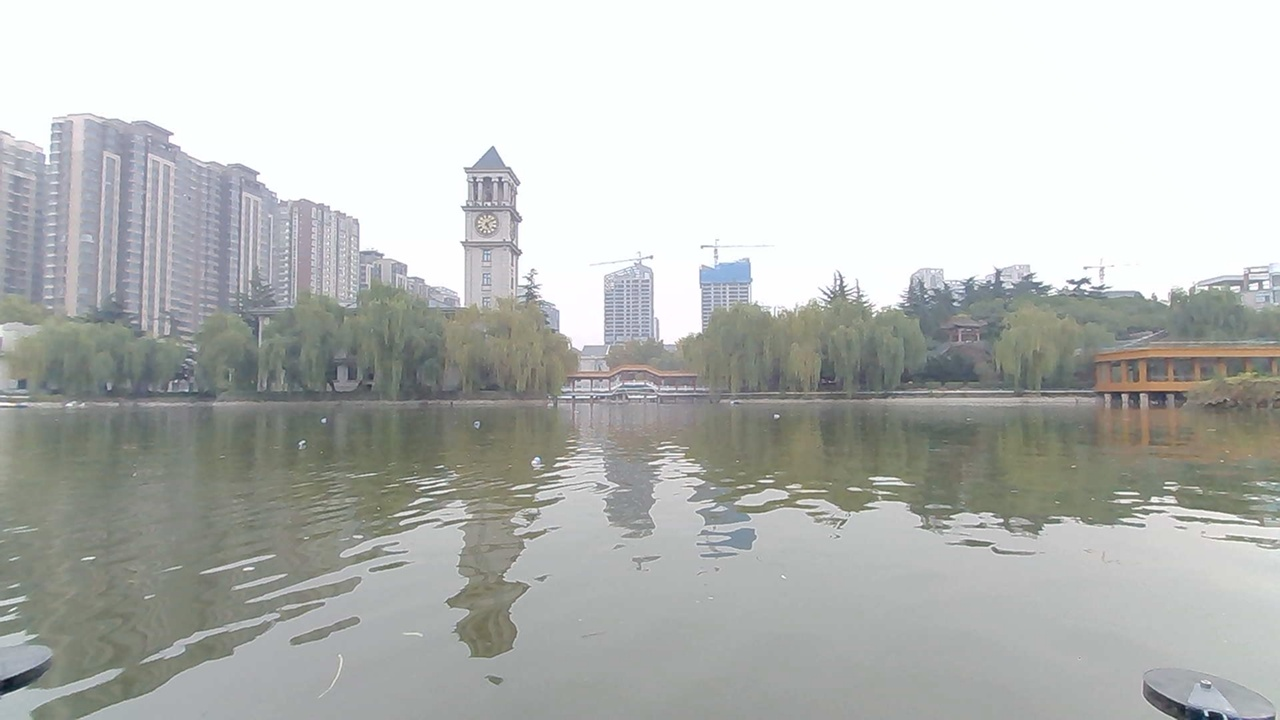bottle: (510, 444, 570, 477), (282, 431, 323, 454), (757, 404, 796, 427), (458, 412, 495, 436), (305, 406, 341, 430)
